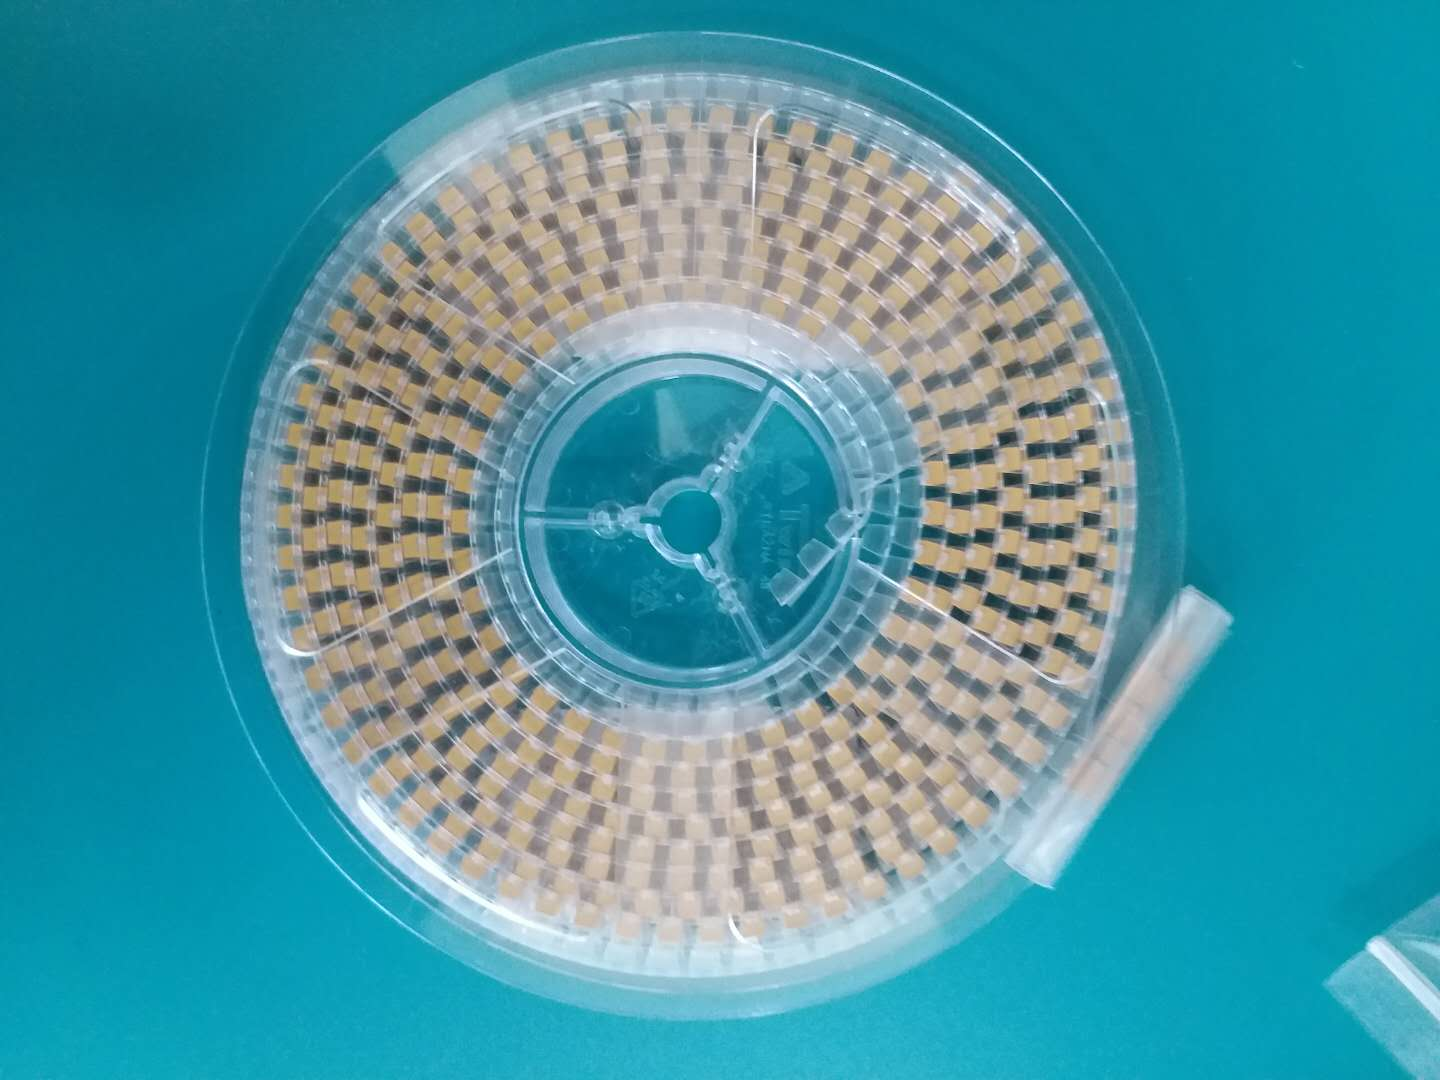G0: (417, 415, 461, 438), (1044, 706, 1069, 733), (714, 843, 739, 866), (677, 900, 700, 923), (1107, 506, 1130, 529), (749, 112, 773, 135), (1050, 419, 1075, 440), (403, 455, 427, 476), (785, 909, 810, 930), (793, 851, 818, 872), (1026, 687, 1048, 712), (975, 506, 1000, 528), (754, 837, 780, 858), (764, 887, 787, 910), (963, 733, 985, 756), (791, 123, 820, 141), (971, 547, 994, 568), (434, 378, 458, 399), (979, 467, 1003, 488), (456, 343, 481, 363), (1107, 463, 1132, 483), (1109, 419, 1126, 448), (931, 731, 952, 753), (863, 879, 887, 900), (916, 423, 940, 444), (459, 431, 484, 450), (1003, 452, 1030, 470), (943, 552, 969, 571), (960, 590, 982, 611), (977, 757, 999, 778), (1008, 490, 1031, 511), (460, 690, 481, 712), (869, 784, 891, 804), (825, 746, 848, 767), (454, 272, 477, 292), (341, 398, 361, 422), (769, 805, 793, 825), (832, 805, 856, 825), (913, 818, 937, 837), (437, 577, 454, 604), (993, 574, 1015, 594), (448, 512, 468, 533), (378, 465, 399, 486), (637, 898, 658, 920), (722, 896, 744, 917), (796, 822, 818, 843), (889, 659, 909, 681), (1024, 741, 1044, 762), (945, 624, 966, 644), (1003, 625, 1026, 644), (473, 290, 495, 310), (607, 813, 629, 833), (702, 925, 725, 944), (744, 919, 766, 938), (811, 790, 833, 809), (438, 695, 456, 719), (514, 287, 537, 305), (805, 878, 823, 902), (893, 695, 917, 714), (351, 528, 369, 552), (403, 535, 420, 560), (427, 535, 444, 560), (460, 381, 481, 402), (420, 351, 440, 371), (646, 820, 667, 841), (632, 843, 652, 863), (688, 820, 709, 841), (983, 663, 1003, 683), (929, 505, 950, 524), (979, 611, 1000, 631), (534, 335, 556, 354), (403, 576, 424, 596), (357, 447, 376, 469), (551, 821, 573, 841), (632, 763, 651, 785), (685, 745, 706, 765), (715, 793, 737, 812), (898, 857, 920, 876), (950, 511, 969, 532), (465, 653, 488, 672), (482, 351, 505, 369), (401, 294, 424, 312), (659, 925, 681, 943), (711, 872, 734, 891), (1047, 585, 1065, 608), (726, 137, 748, 155), (752, 866, 776, 883), (696, 211, 720, 228), (304, 529, 320, 554), (403, 493, 418, 518), (1056, 545, 1076, 564), (1015, 382, 1035, 402), (955, 472, 975, 491), (503, 363, 524, 382), (481, 396, 501, 415), (425, 302, 444, 322), (432, 262, 452, 281), (581, 909, 600, 929), (731, 815, 751, 835), (832, 837, 853, 857), (968, 804, 988, 825), (1083, 447, 1101, 469), (1033, 461, 1051, 482), (921, 545, 942, 563), (465, 733, 486, 751), (437, 653, 458, 672), (669, 876, 691, 894), (845, 770, 866, 788), (997, 776, 1018, 794), (719, 185, 740, 203), (1058, 463, 1081, 480), (523, 715, 545, 732), (513, 322, 535, 339), (380, 547, 397, 569), (619, 919, 636, 942), (702, 237, 725, 254), (355, 272, 370, 298), (296, 628, 312, 652), (1026, 422, 1045, 441), (785, 228, 804, 247), (401, 387, 421, 406), (520, 863, 540, 883), (862, 652, 881, 672), (991, 698, 1010, 717), (996, 408, 1015, 428), (426, 498, 444, 518), (1034, 503, 1054, 521), (930, 465, 950, 483), (865, 723, 886, 741), (481, 632, 501, 650), (420, 618, 440, 636), (416, 666, 437, 684), (674, 796, 694, 815), (958, 697, 979, 715), (545, 297, 570, 312), (556, 766, 577, 783), (520, 745, 542, 762), (488, 718, 509, 735), (627, 874, 649, 891), (715, 767, 737, 784), (729, 162, 751, 179), (869, 820, 891, 836), (1017, 233, 1040, 248), (678, 184, 701, 200), (362, 361, 375, 387), (603, 168, 632, 180), (329, 479, 344, 503), (379, 504, 393, 528), (1000, 345, 1019, 363), (1005, 534, 1024, 552), (793, 740, 812, 758), (507, 264, 526, 282), (347, 332, 366, 351), (600, 891, 619, 909), (913, 628, 931, 648), (744, 269, 763, 287), (1028, 547, 1049, 564), (1084, 532, 1101, 552), (1034, 624, 1051, 644), (1026, 343, 1047, 360), (1003, 306, 1024, 323), (557, 739, 577, 756), (534, 692, 554, 709), (386, 588, 403, 608), (444, 318, 465, 335), (644, 743, 664, 760), (635, 793, 652, 813), (754, 753, 771, 774), (861, 691, 876, 712), (567, 715, 588, 731), (306, 571, 322, 592), (869, 153, 890, 169), (698, 262, 720, 278), (581, 278, 603, 293), (530, 784, 552, 799), (370, 292, 384, 314), (1075, 408, 1093, 427), (947, 788, 965, 807), (881, 745, 899, 763), (447, 619, 465, 638), (541, 897, 559, 916), (592, 835, 610, 853), (829, 722, 848, 739), (454, 552, 471, 572), (674, 771, 693, 788), (672, 847, 692, 864), (938, 836, 957, 853), (1070, 668, 1087, 687), (904, 387, 923, 404), (688, 135, 708, 152), (904, 792, 924, 808), (423, 236, 443, 252), (336, 442, 351, 463), (355, 486, 369, 509), (548, 846, 564, 867), (759, 784, 779, 800), (794, 765, 810, 785), (937, 393, 952, 413), (712, 110, 732, 126), (645, 161, 669, 175), (373, 406, 386, 431), (1077, 574, 1095, 591), (1065, 616, 1083, 633), (1042, 382, 1060, 399), (951, 276, 969, 293), (790, 253, 807, 271), (594, 758, 617, 771), (465, 593, 482, 611), (350, 647, 369, 664), (379, 324, 392, 347), (556, 878, 574, 895), (827, 897, 844, 916), (842, 863, 861, 880), (1006, 726, 1023, 744), (1013, 663, 1031, 680), (742, 217, 760, 234), (725, 288, 742, 306), (659, 262, 681, 276), (802, 708, 821, 724), (550, 267, 569, 282), (542, 243, 561, 259), (500, 881, 519, 897), (722, 739, 742, 754), (921, 663, 940, 678), (888, 621, 907, 636), (963, 651, 979, 670), (747, 243, 766, 259), (560, 208, 579, 223), (449, 752, 469, 767), (329, 524, 344, 545), (333, 565, 348, 585), (1085, 490, 1100, 511), (683, 285, 703, 299), (305, 487, 317, 511), (644, 138, 668, 151), (458, 471, 471, 495), (976, 430, 993, 447), (432, 834, 449, 851), (910, 718, 927, 735), (960, 387, 977, 404), (882, 354, 899, 371), (1049, 655, 1067, 670), (1027, 292, 1045, 307), (951, 243, 969, 259), (493, 691, 513, 706), (390, 762, 409, 777), (486, 313, 506, 328), (461, 236, 481, 251), (585, 860, 604, 875), (938, 686, 957, 701), (392, 423, 405, 446), (490, 189, 513, 202), (434, 455, 446, 480), (780, 279, 801, 293), (497, 761, 517, 775), (489, 248, 509, 262), (617, 269, 644, 279), (964, 335, 981, 351), (813, 158, 829, 175), (399, 686, 415, 703), (497, 216, 513, 233), (331, 371, 347, 388), (467, 863, 484, 879), (917, 317, 933, 334), (625, 241, 649, 252), (1018, 585, 1031, 607), (338, 604, 350, 625), (644, 290, 666, 303), (659, 211, 680, 223), (668, 111, 689, 124), (980, 273, 998, 288), (892, 327, 907, 345), (518, 805, 536, 820), (443, 782, 461, 796), (315, 615, 330, 633), (300, 387, 315, 405), (689, 160, 708, 175), (1095, 588, 1109, 607), (568, 800, 587, 813), (569, 315, 588, 329), (376, 652, 396, 666), (289, 427, 303, 446), (761, 197, 783, 209), (627, 113, 650, 125), (638, 189, 661, 201), (618, 218, 638, 230), (566, 180, 586, 193), (527, 196, 552, 206), (937, 592, 952, 608), (369, 685, 384, 701), (333, 314, 349, 330), (835, 138, 850, 154), (952, 434, 967, 452), (886, 192, 903, 206), (890, 292, 907, 306), (822, 243, 839, 258), (771, 171, 788, 186), (425, 724, 442, 739), (365, 729, 382, 744), (1058, 503, 1071, 521), (904, 766, 922, 779), (765, 304, 783, 318), (398, 627, 412, 646), (416, 754, 434, 768), (357, 569, 371, 588), (881, 843, 899, 857), (915, 357, 933, 371), (848, 202, 866, 216), (526, 170, 548, 182), (593, 787, 617, 798), (482, 782, 501, 794), (280, 508, 293, 528), (388, 369, 400, 388), (1066, 306, 1081, 322), (979, 310, 994, 324), (974, 228, 989, 244), (939, 768, 955, 783), (805, 208, 821, 222), (398, 265, 414, 280), (400, 808, 415, 824), (1047, 328, 1064, 341), (940, 302, 954, 319), (920, 248, 937, 262), (833, 691, 854, 702), (820, 301, 837, 314), (802, 320, 819, 334), (513, 833, 530, 846), (449, 820, 466, 834), (524, 227, 544, 238), (410, 218, 427, 231), (664, 238, 687, 248), (588, 123, 605, 136), (565, 157, 585, 168), (418, 793, 437, 805), (282, 549, 295, 567), (768, 145, 786, 158), (317, 407, 329, 427), (604, 145, 624, 157), (508, 151, 527, 162), (471, 168, 490, 179), (1086, 632, 1100, 648), (1043, 271, 1059, 285), (909, 275, 925, 288), (855, 326, 869, 341), (329, 655, 342, 670), (287, 591, 300, 607), (940, 352, 954, 368), (313, 345, 330, 357), (283, 469, 296, 486), (310, 448, 321, 466), (548, 135, 570, 144), (1085, 344, 1099, 358), (921, 217, 935, 230), (888, 222, 903, 236), (842, 223, 856, 238), (986, 371, 999, 387), (769, 729, 785, 742), (605, 299, 625, 310), (598, 199, 619, 208), (876, 248, 893, 260), (478, 810, 495, 821), (813, 184, 831, 194), (605, 734, 620, 746), (456, 211, 471, 223), (858, 265, 874, 277), (344, 695, 359, 707), (1106, 547, 1115, 566), (482, 846, 499, 857), (390, 720, 401, 735), (827, 277, 842, 287), (310, 672, 320, 687), (505, 663, 517, 675), (942, 201, 956, 212), (863, 299, 876, 311), (440, 195, 461, 202), (850, 174, 866, 183), (587, 255, 603, 264), (348, 746, 358, 760), (328, 712, 339, 724), (581, 228, 593, 238), (367, 610, 378, 623), (1067, 368, 1081, 377), (913, 584, 926, 593), (386, 248, 398, 258), (1101, 383, 1111, 394), (374, 781, 384, 791), (914, 180, 924, 189), (1002, 260, 1011, 268)
